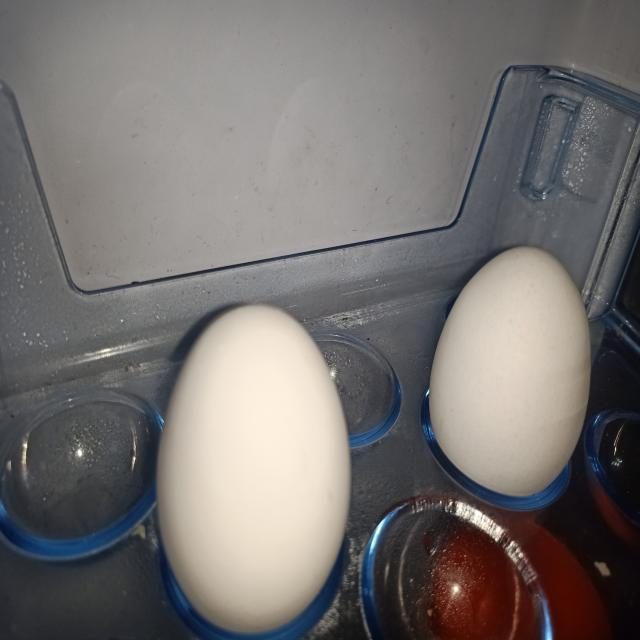Egg: (136, 284, 374, 640), (418, 223, 608, 522)
